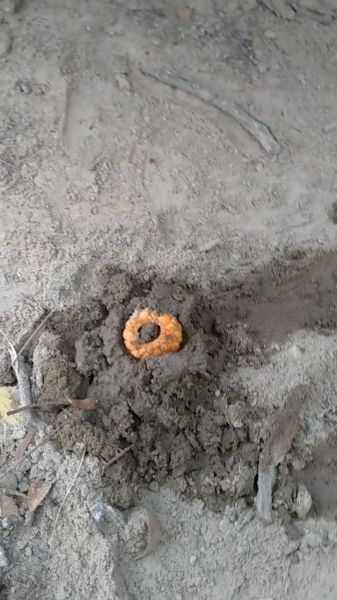eggs: (117, 307, 190, 360)
